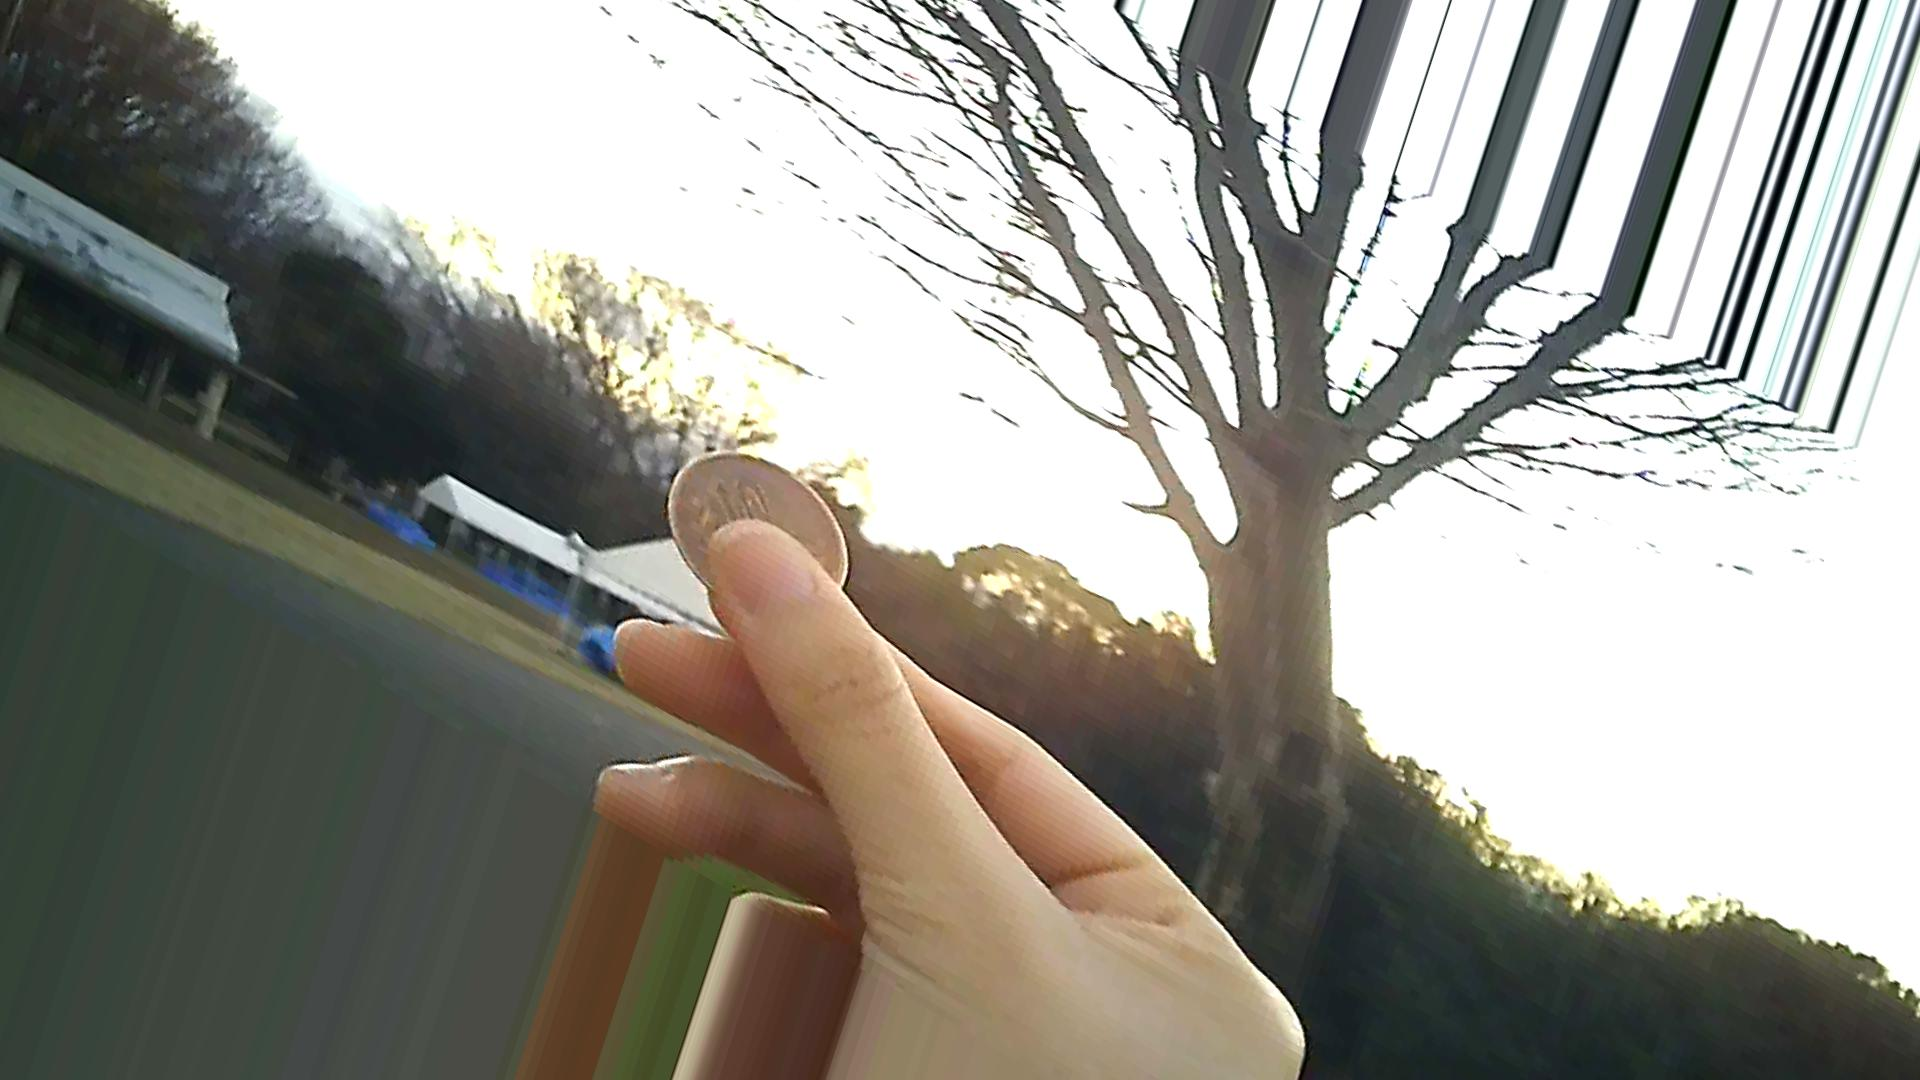10 Yen: (670, 443, 860, 620)
